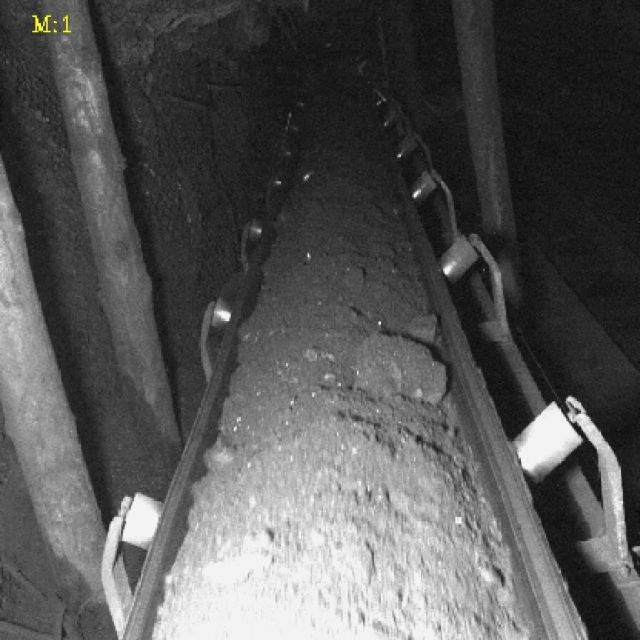large_sized_coal: (360, 331, 448, 402), (411, 311, 438, 337)
